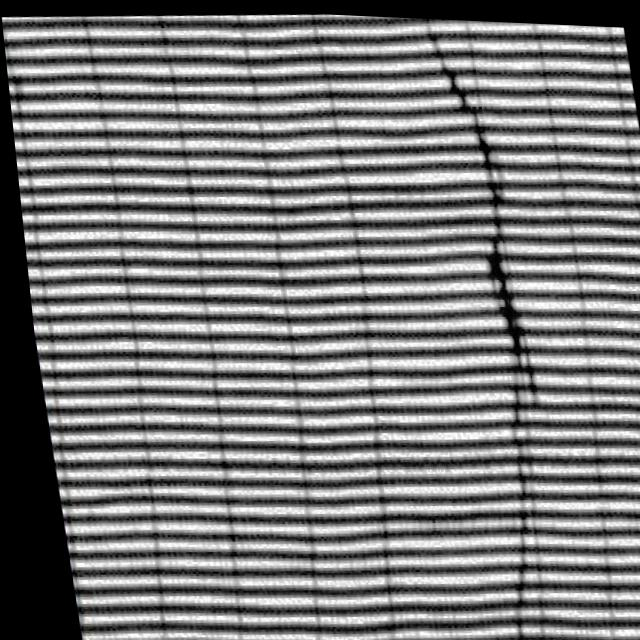Stitch: (407, 14, 569, 468)
